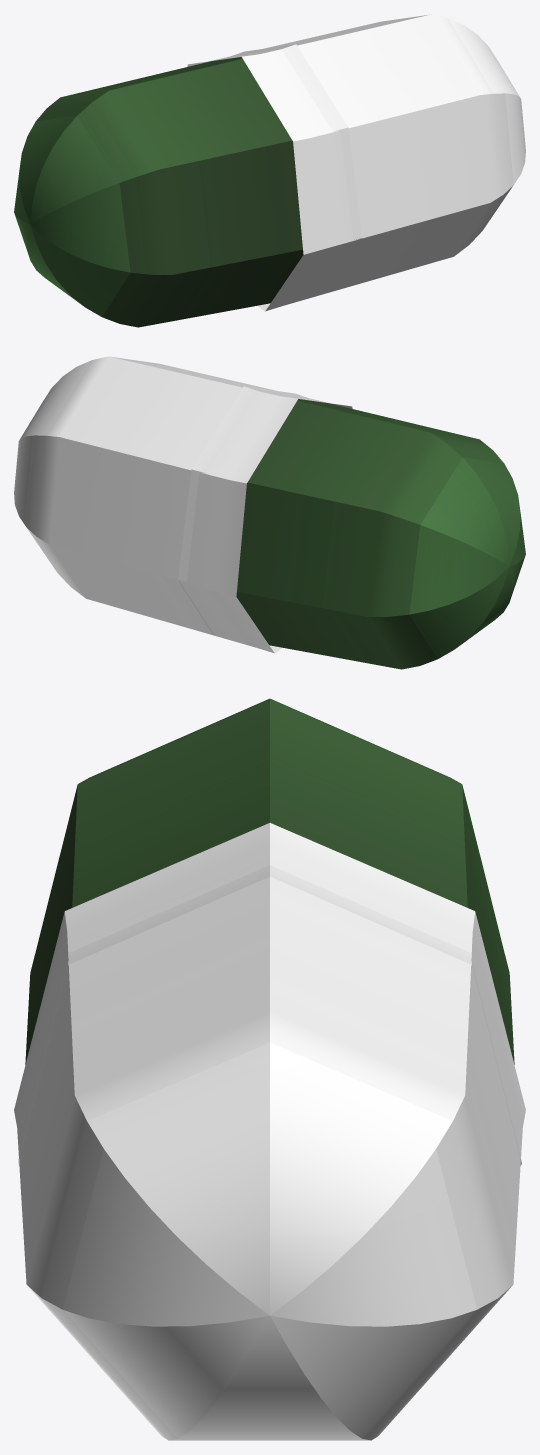
The model's file is pildoracontextura2.fbx.
The picture shows the model from 3 angles, top to bottom: view 1: azimuth 30°, elevation 25°; view 2: azimuth 150°, elevation 25°; view 3: azimuth 270°, elevation 25°; orthographic projection. The views are drawn at different scales.
Visible parts, largest first — view 1: pSphere5; view 2: pSphere5; view 3: pSphere5.
Boxes of the visible parts, x1=… form: pSphere5: x1=14, y1=14, x2=525, y2=327; pSphere5: x1=14, y1=356, x2=525, y2=669; pSphere5: x1=14, y1=698, x2=525, y2=1440.
Bounding box in the file's own units: 0.3226 × 0.1495 × 0.1534.
1 material, 1 textured.
